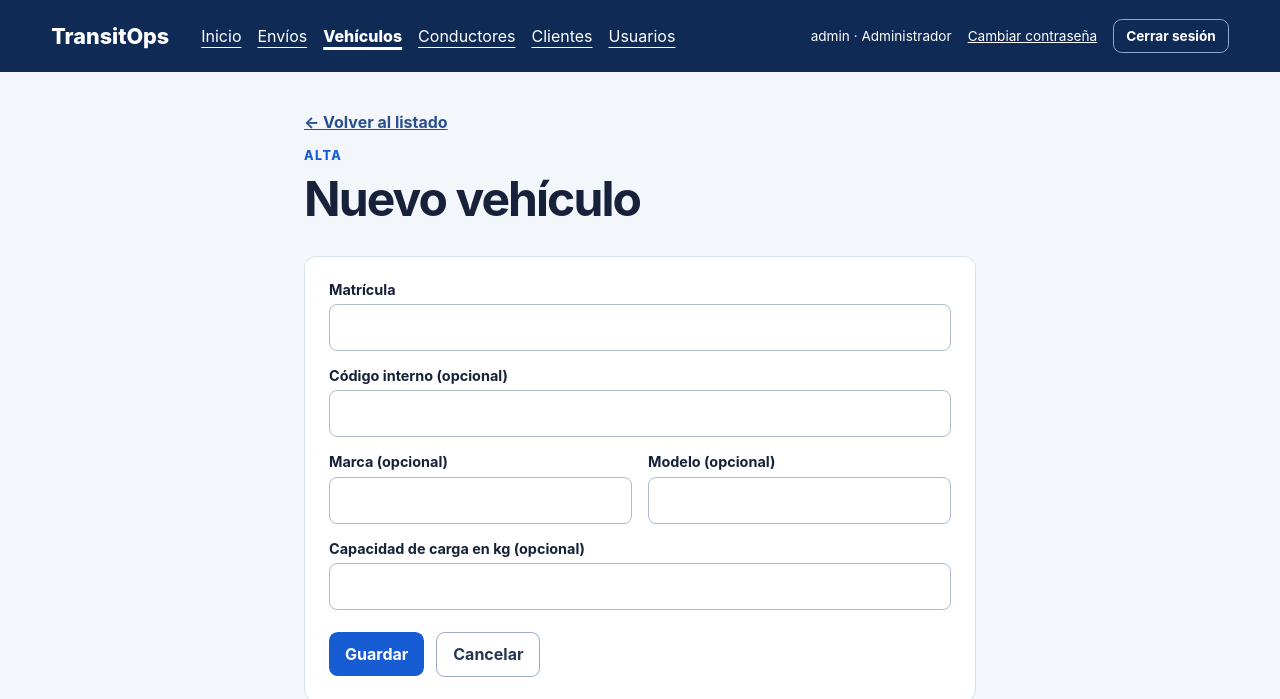
Test: catálogos › shows a business conflict while creating a vehicle
Type "1234 ABC" into the field labelled "Matrícula" at {"x": 640, "y": 327}, box [329,304,951,351]
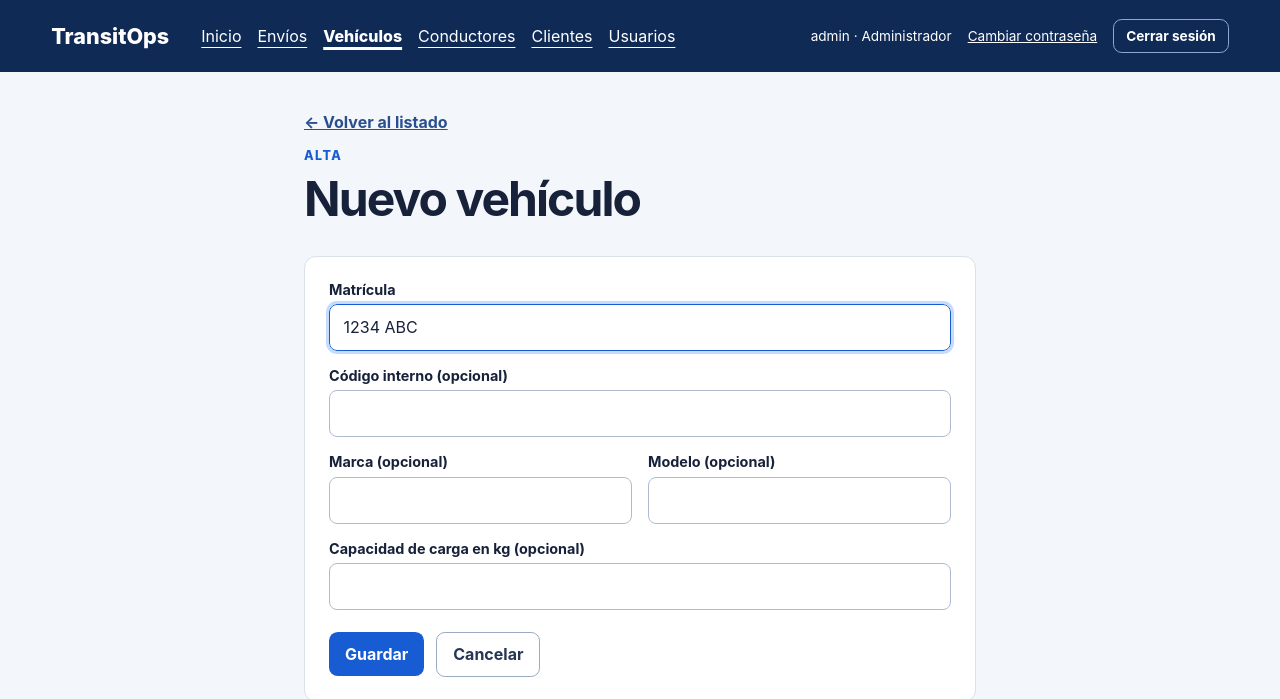
Click the button "Guardar" at {"x": 377, "y": 654}, box [329,632,424,676]
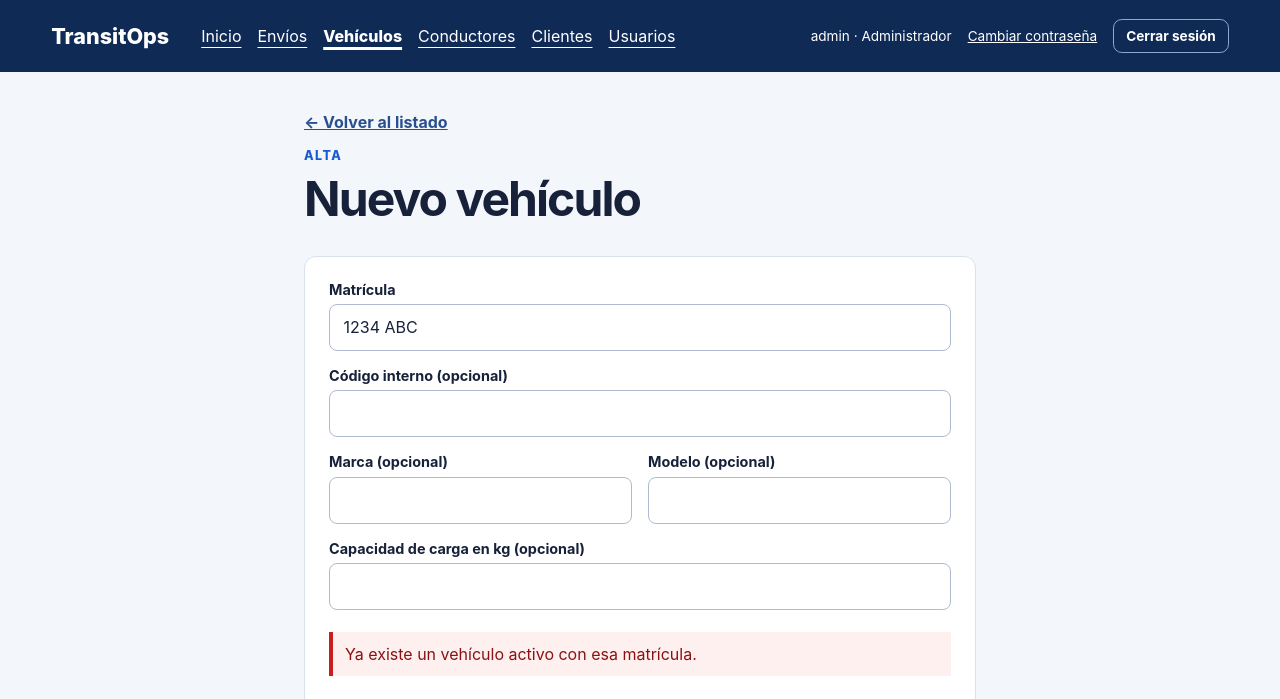
Expected: the message reads "Ya existe un vehículo activo con esa matrícula.", [345,644,697,664]
